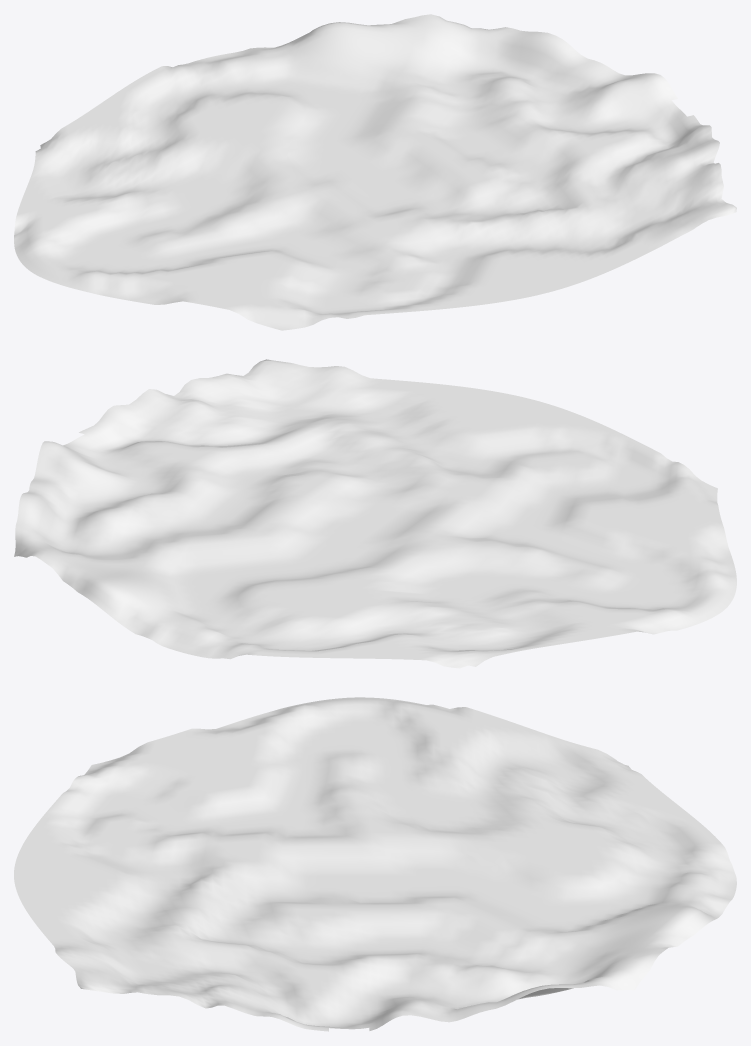
File: snow_terrain.glb
3 views of the same model, one above another, from view 1: azimuth 30°, elevation 25°; view 2: azimuth 150°, elevation 25°; view 3: azimuth 270°, elevation 25° (orthographic). The views are drawn at different scales.
Parts seen in each view (by area): view 1: Plane.001; view 2: Plane.001; view 3: Plane.001.
Part boxes in pixels (x1,y1,x2,y2): Plane.001: (14,14,736,330); Plane.001: (14,359,736,668); Plane.001: (14,697,736,1031).
Bounding box in the file's own units: 950 × 41.46 × 842.
1 material, 1 textured.
